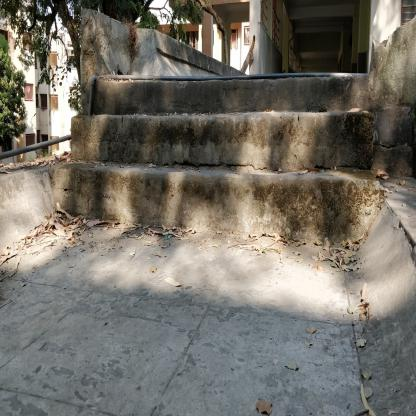stairs: (93, 73, 367, 251)
